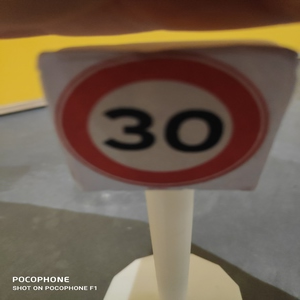30-bord: (54, 56, 261, 190)
